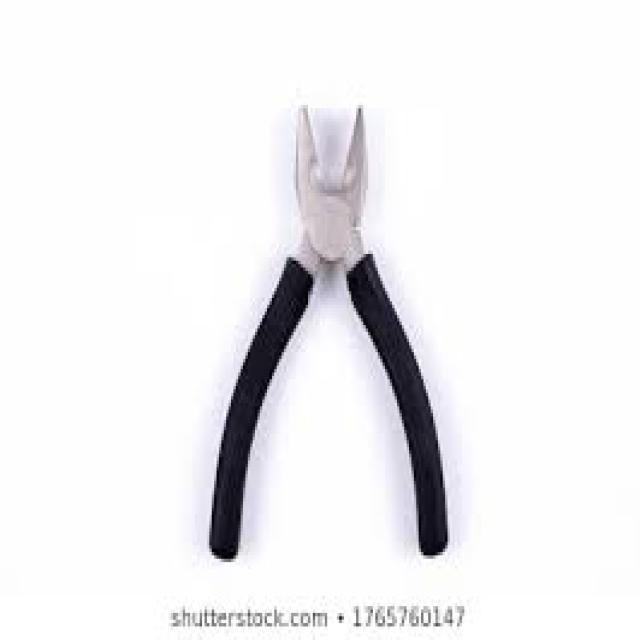wire_cutter: (211, 107, 446, 556)
